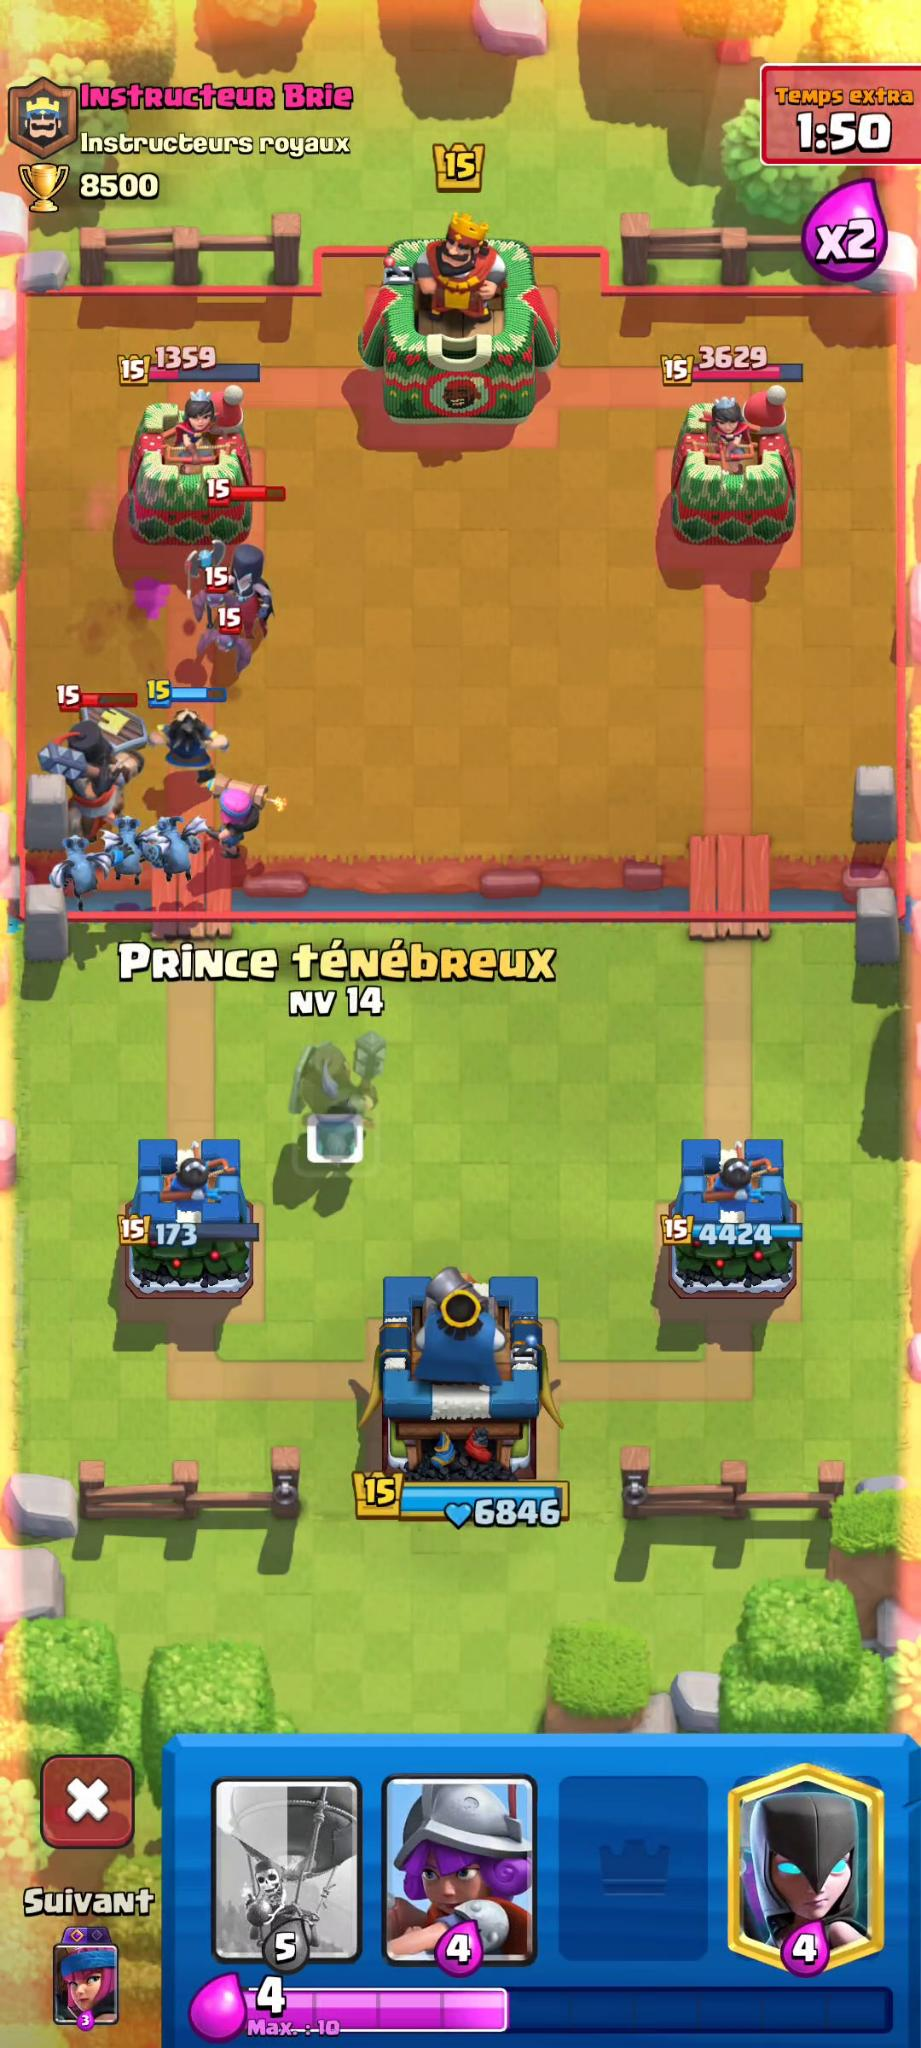bat: (179, 575, 253, 624), (193, 614, 257, 661)
gargouille: (55, 836, 116, 904), (155, 824, 206, 888), (105, 815, 152, 875)
